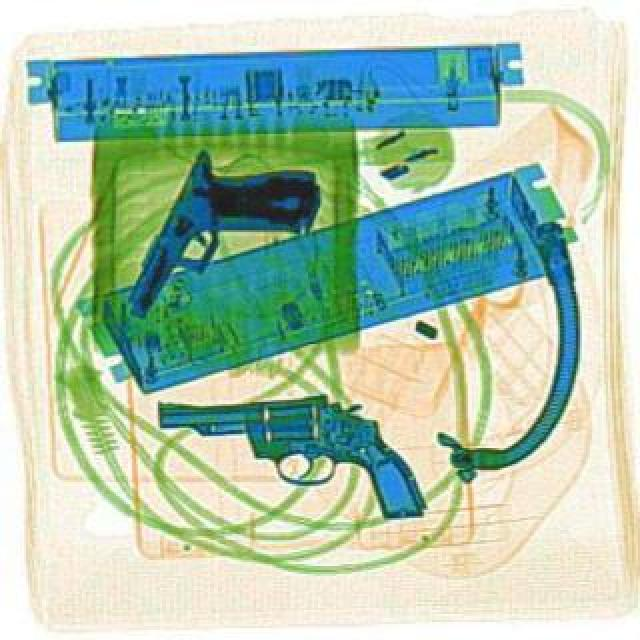gun: (122, 130, 324, 350), (154, 392, 424, 524)
